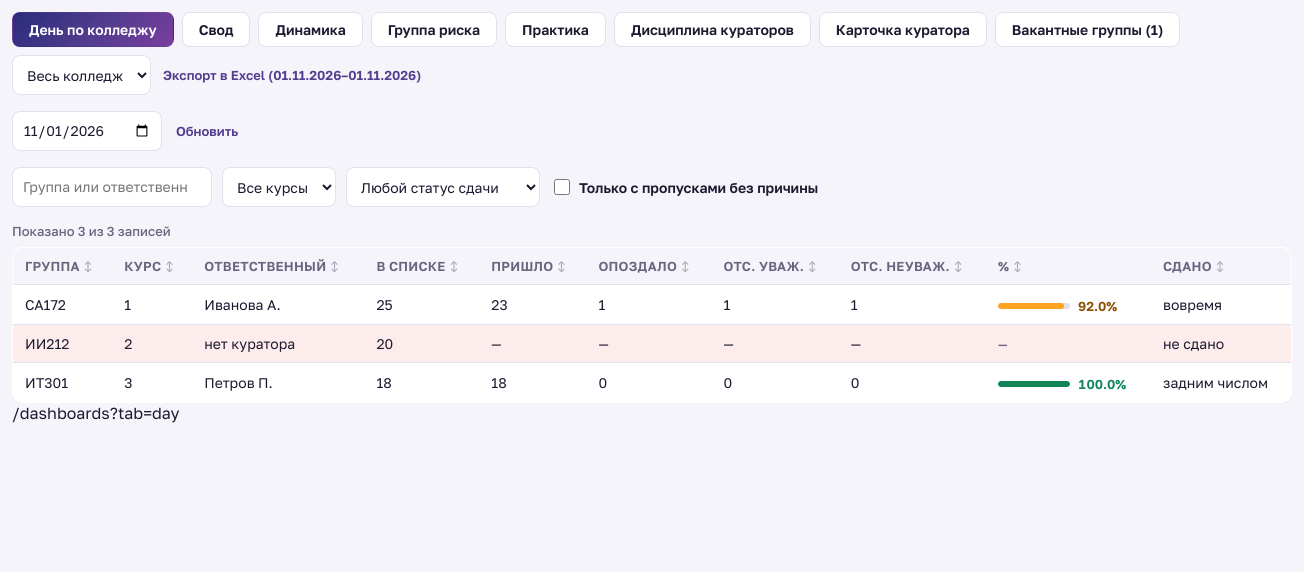
Test case: DashboardsPage — динамика и группа риска › динамика: среднее по дням с данными, таблица с датами, несданный день — прочерк
Expected: the text "СА172" is shown, [12,284,112,324]
Click the button "Динамика".
click(311, 30)  # box [258,12,363,47]
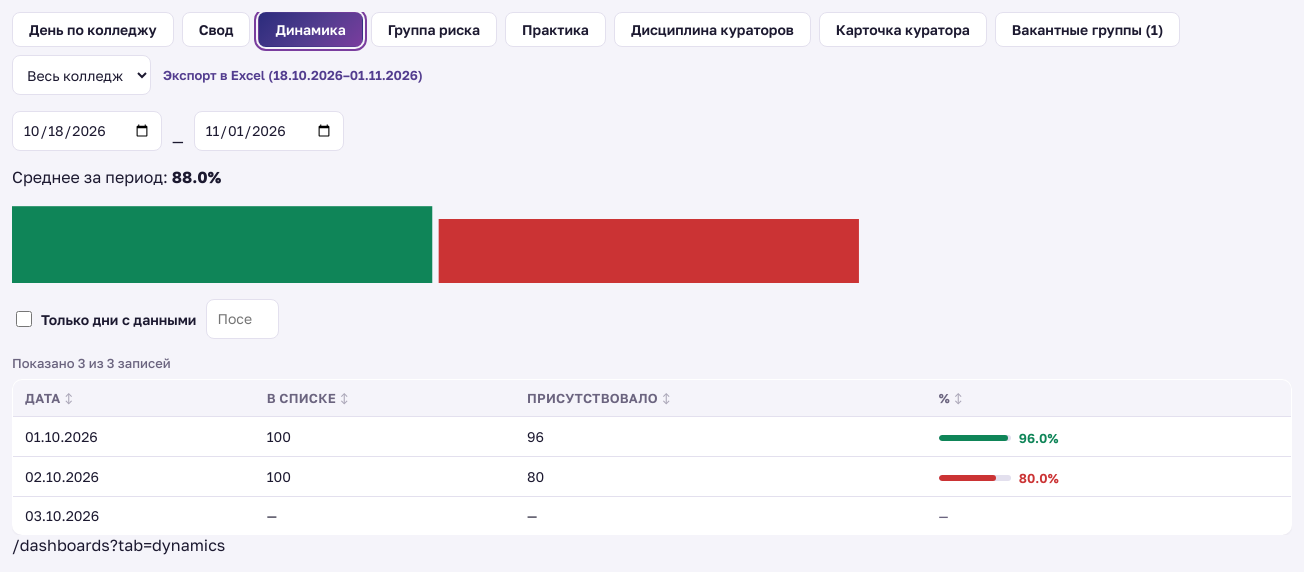
Now the text "88.0%" is shown, box [172,167,221,187]
Now the text "96.0%" is shown, box [1019,430,1063,446]
